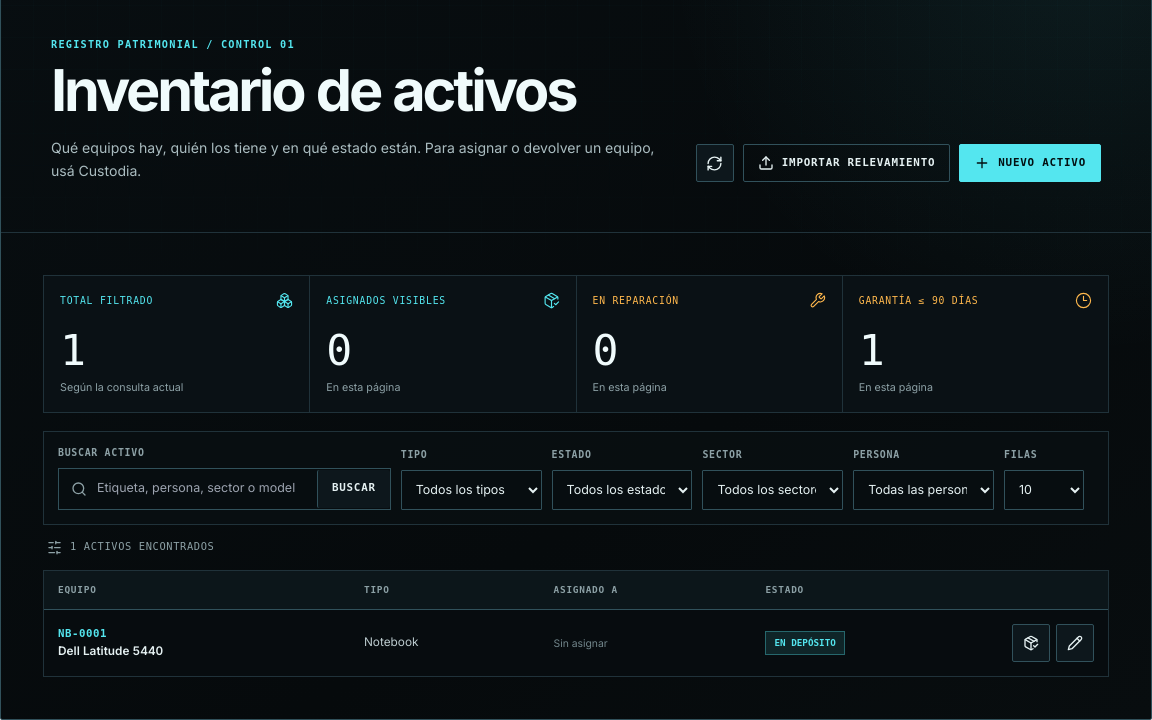
Test case: ItInventoryPage › avisa cuando el equipo no aparece en Red en vivo
(page scrolled)
Click the button named "Editar NB-0001" at (1075, 643), box [1056,624,1094,662]
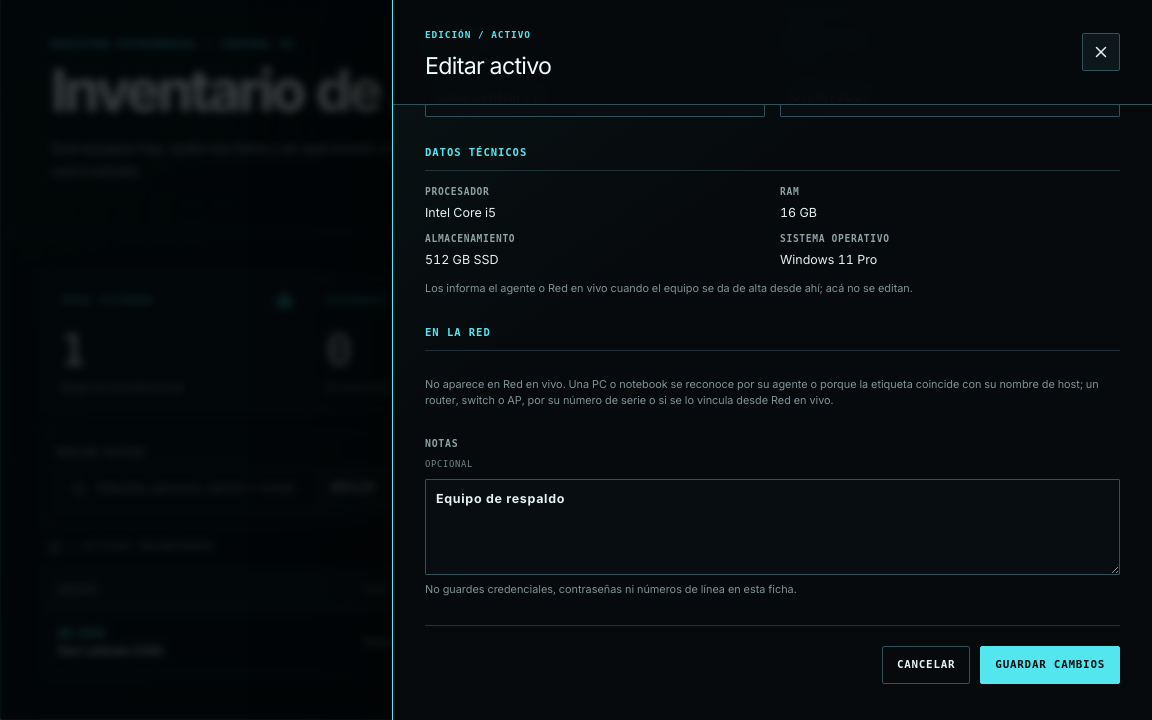
Now the text "No aparece en Red en vivo" is shown, box [425,377,1099,407]
